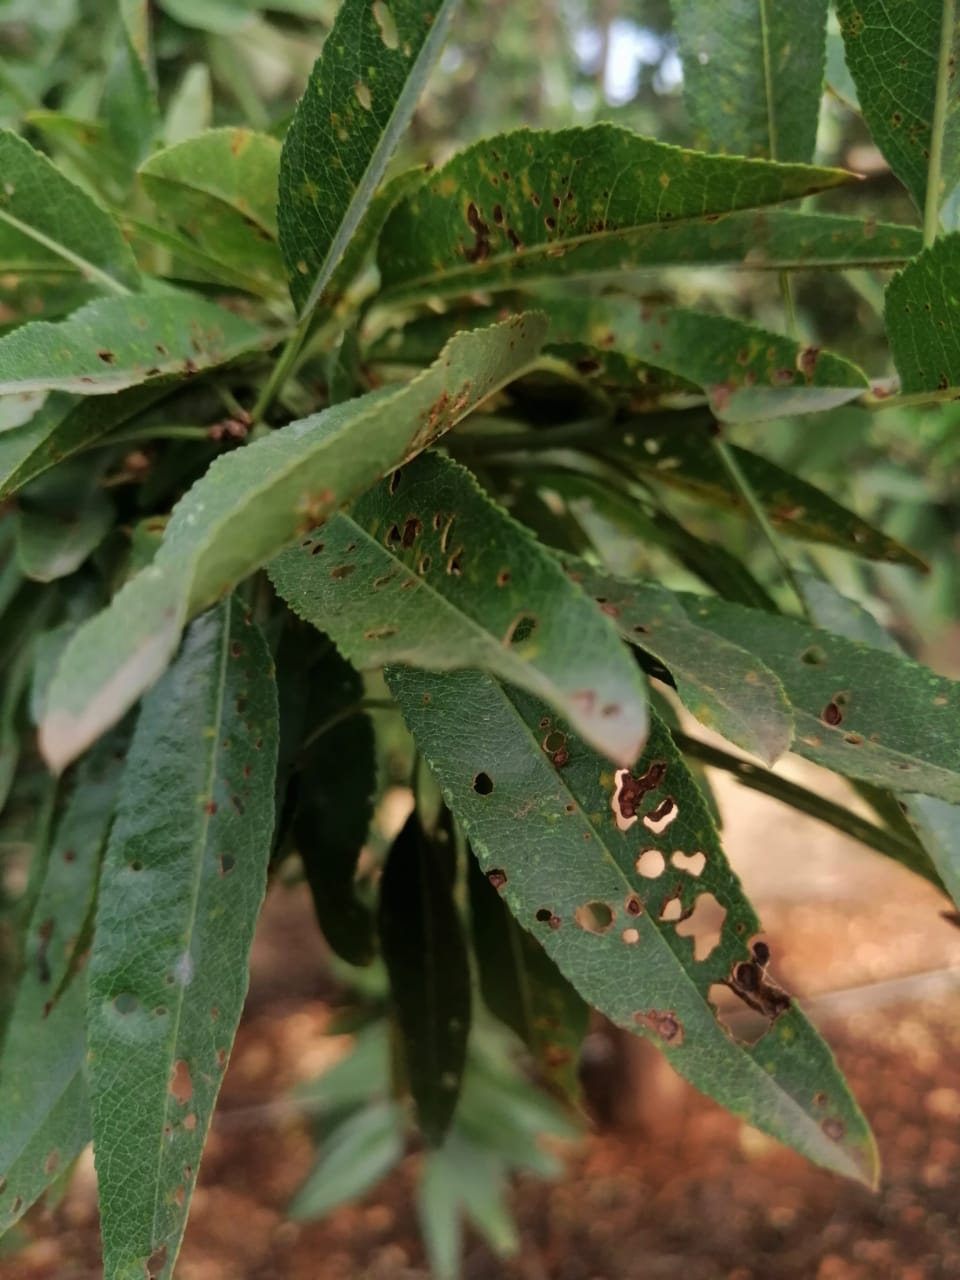polystigma: (437, 65, 776, 249), (253, 502, 411, 807), (472, 734, 637, 971), (413, 381, 533, 652), (341, 834, 428, 1049), (442, 222, 596, 335)
